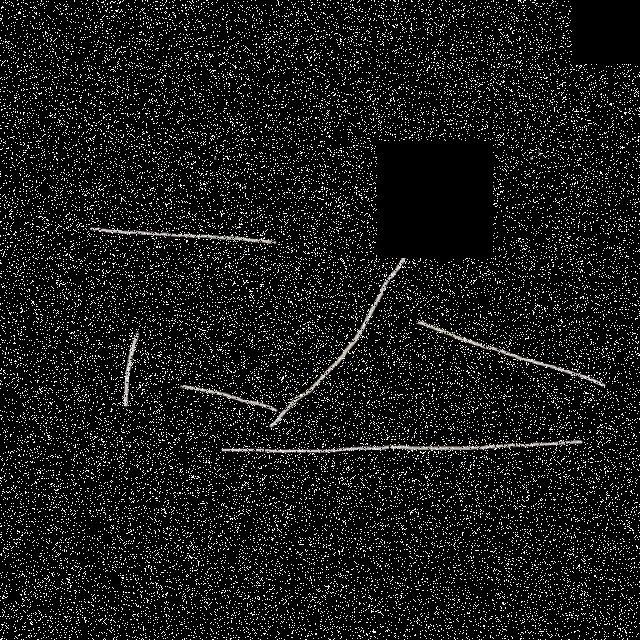QR_CODE: (134, 250, 316, 388), (388, 364, 497, 455), (434, 255, 536, 336)
